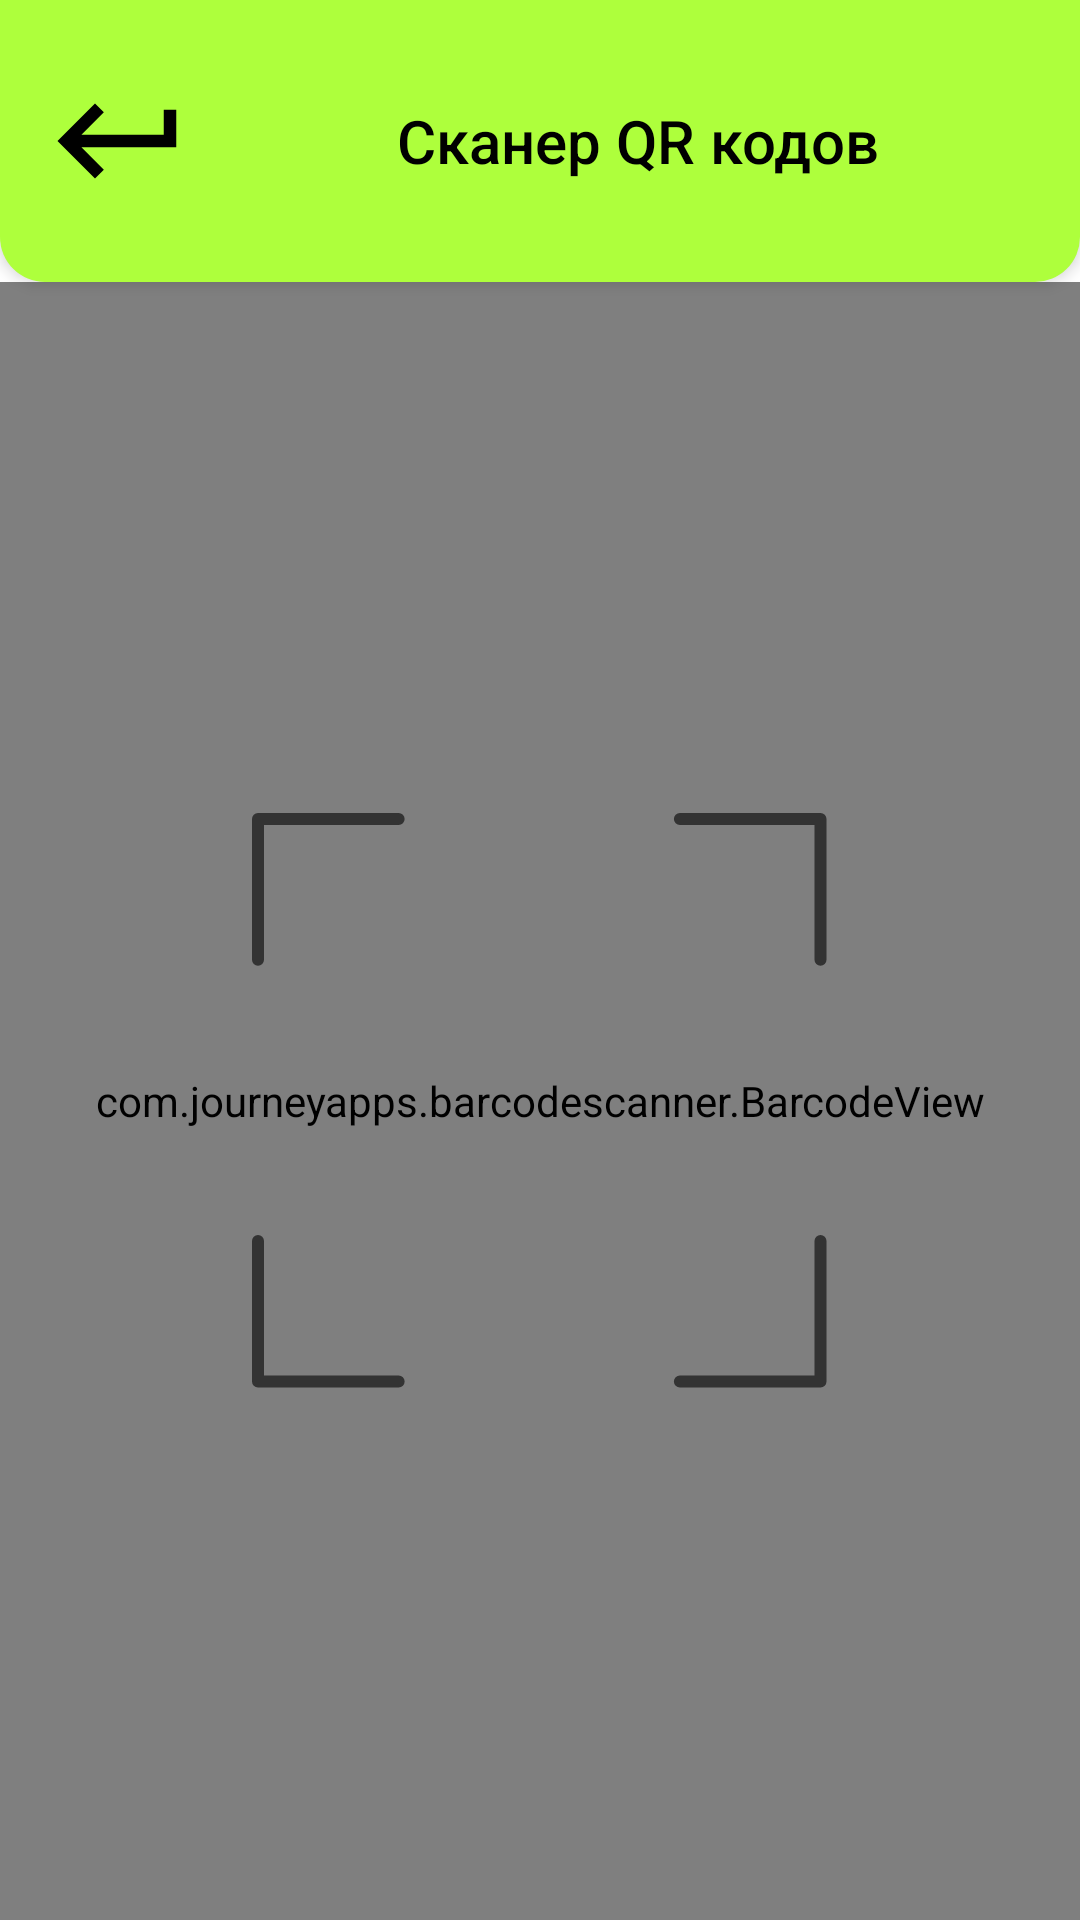

Named icons in this screenshot (1080x1920) and their bounding boxes, {"x1": x1, "y1": y1, "x2": x2, "y2": y2}:
кнопка возврата: {"x1": 57, "y1": 103, "x2": 177, "y2": 179}
